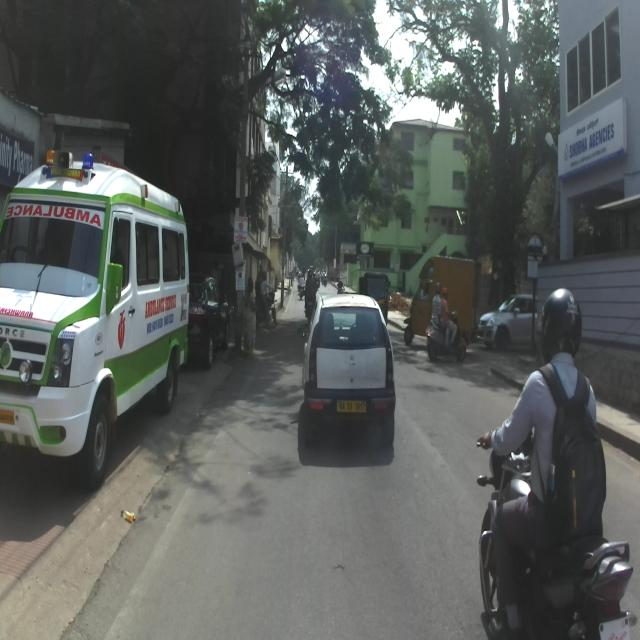bus ahead at: (1, 149, 190, 482)
car ahead at: (306, 301, 396, 451)
